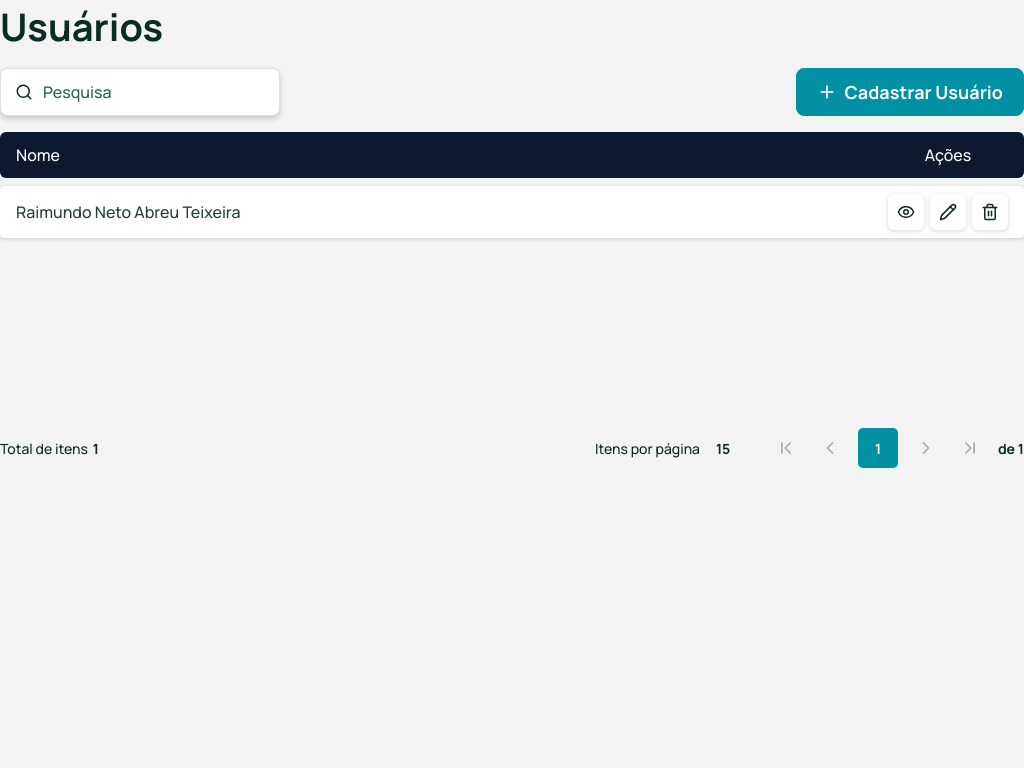
Scenario: UsersPage › não exclui ao responder "Não"
What coordinates should you click on to do the following:
click the button named "Excluir Raimundo Neto Abreu Teixeira"
I would click on:
 (990, 212)
Its box is 972,194 -> 1008,230.
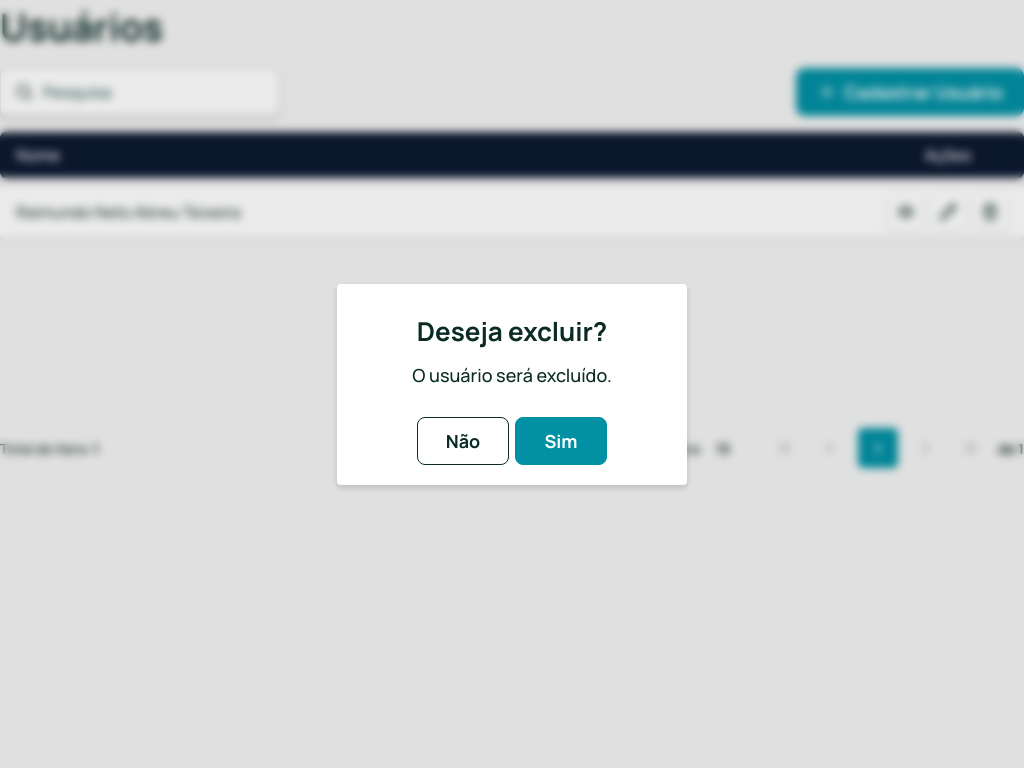
What coordinates should you click on to do the following:
click the button "Não"
I would click on:
 (463, 440)
Its box is 417,416 -> 509,464.
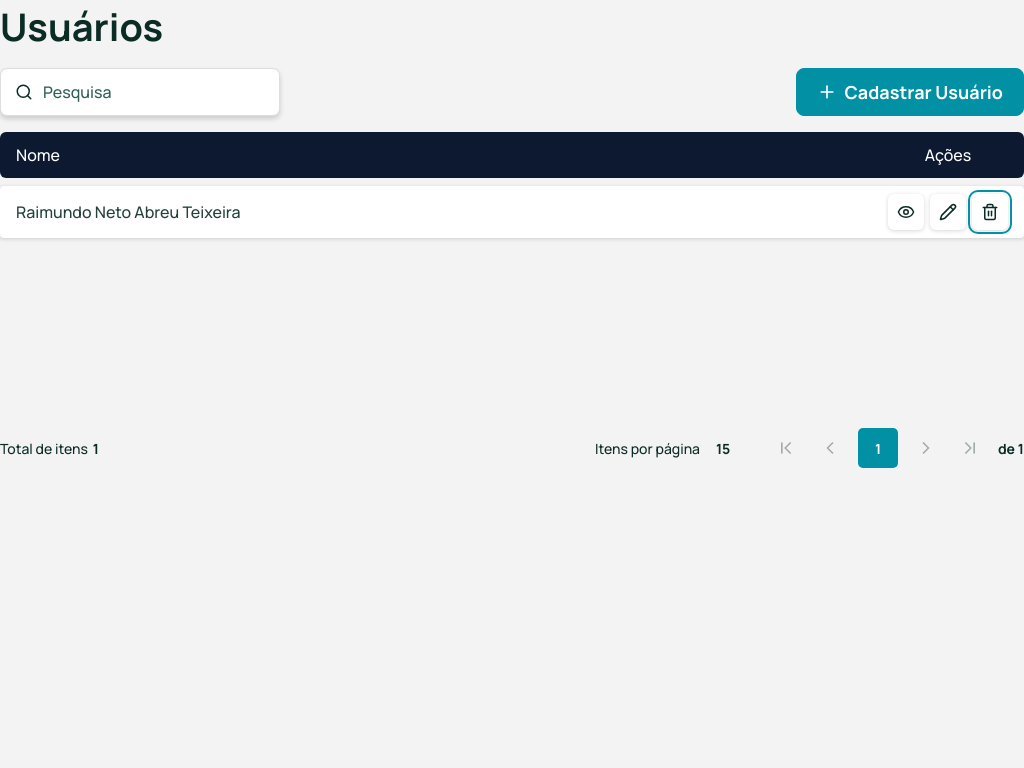
Expected: the dialog is gone
